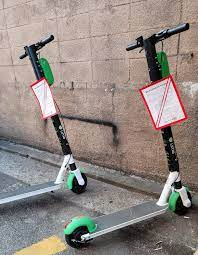kick_body: (93, 201, 167, 229), (4, 183, 60, 200)
kick_handler: (125, 23, 191, 50), (17, 34, 53, 58)
kick_wheel: (64, 216, 92, 248), (169, 188, 193, 215), (65, 168, 87, 192)
